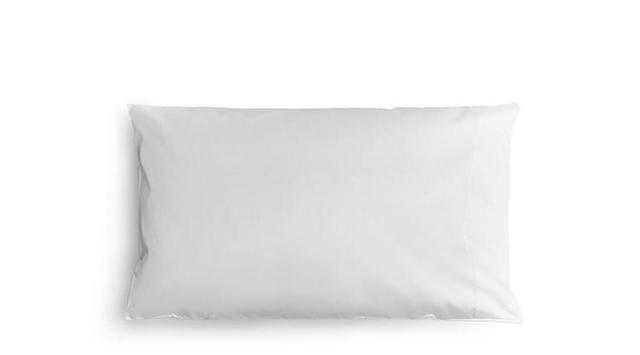pillow: (122, 101, 522, 323)
